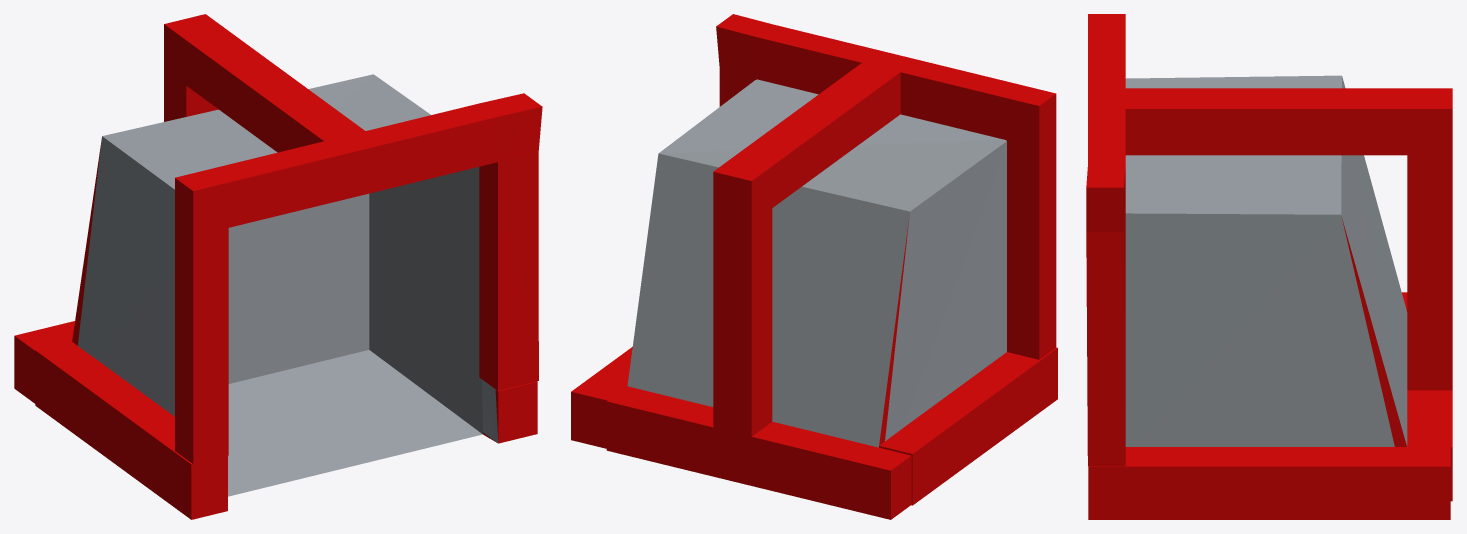
Rendered from fillet.obj.
The picture shows the model from 3 angles, left to right: view 1: azimuth 30°, elevation 25°; view 2: azimuth 150°, elevation 25°; view 3: azimuth 270°, elevation 25°; orthographic projection. The views are drawn at different scales.
Parts seen in each view (by area): view 1: Cube; view 2: Cube; view 3: Cube.
Part boxes in pixels (x1,y1,x2,y2): Cube: [14, 14, 542, 519]; Cube: [571, 14, 1057, 519]; Cube: [1086, 14, 1452, 519].
Size of the model in its own units: 4.14 by 3.72 by 3.67.
Materials: 1 (1 with a texture image).
